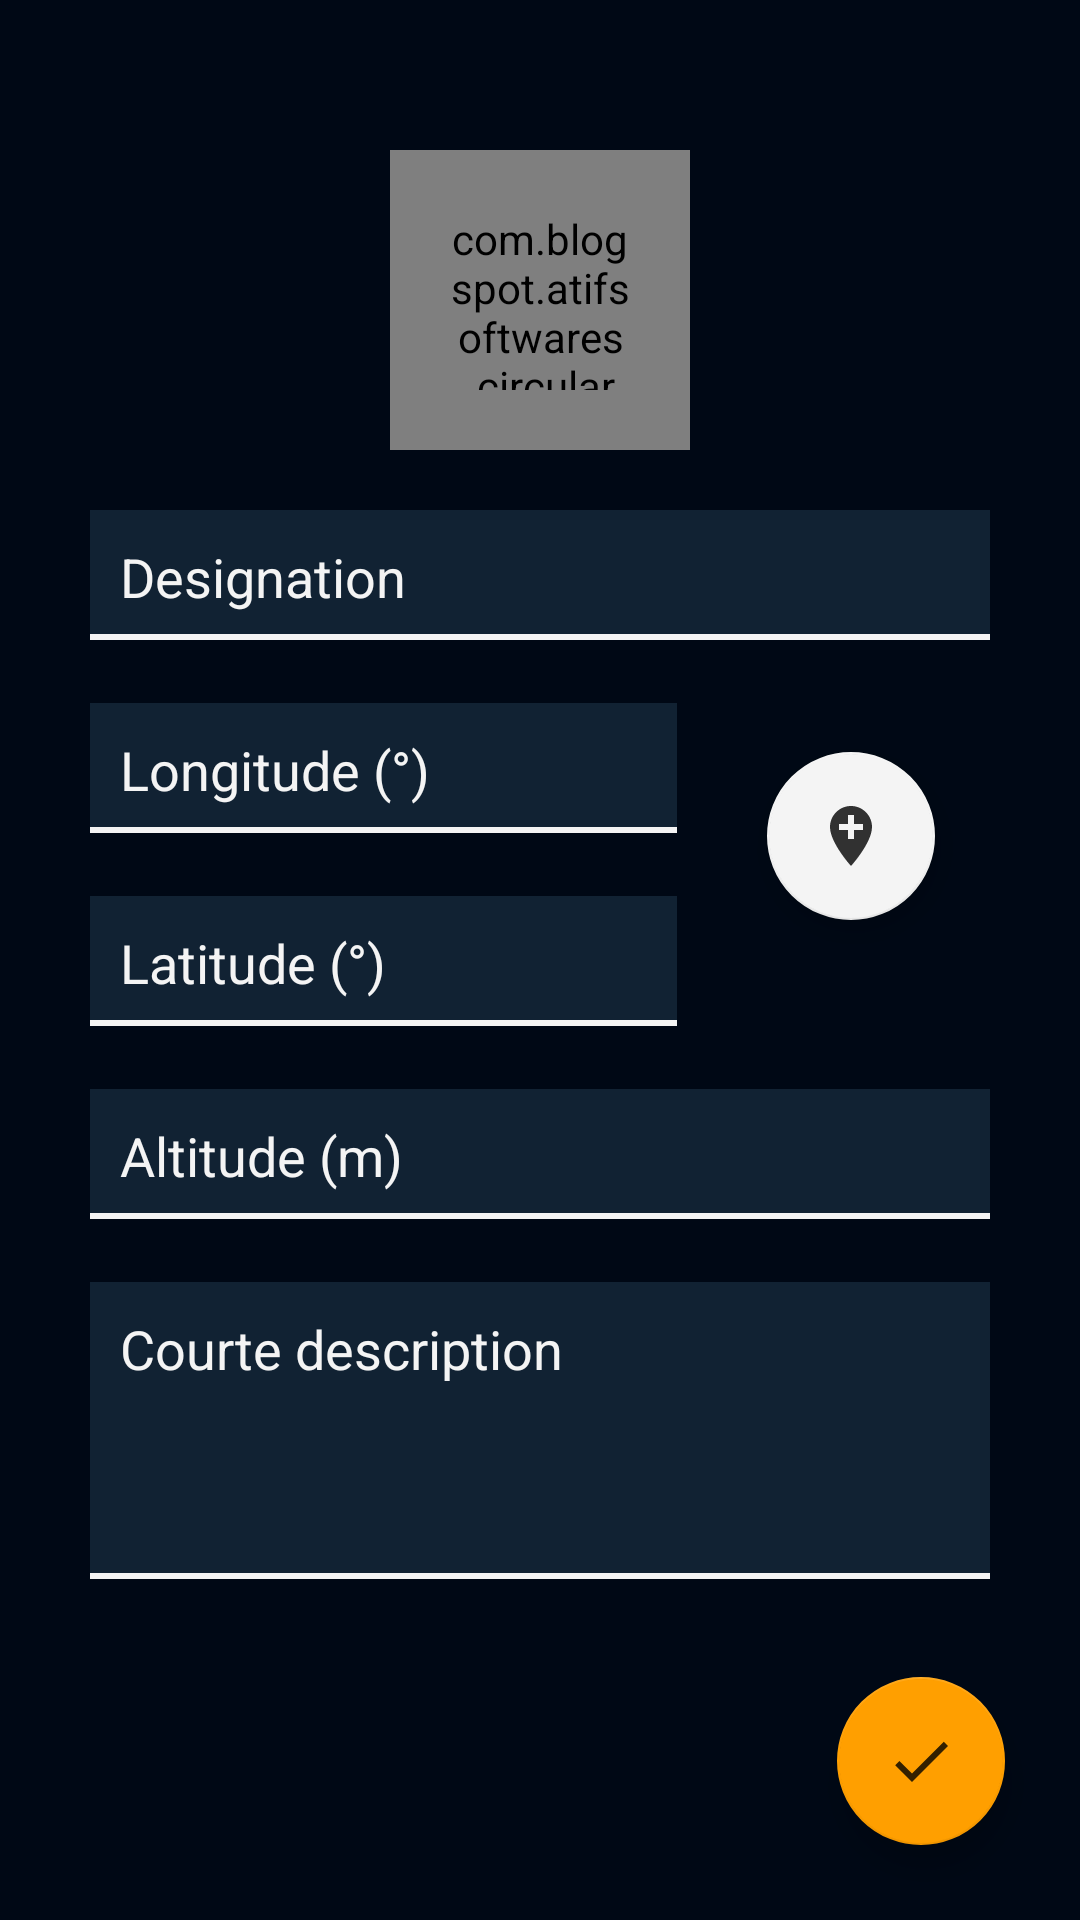

Named icons in this screenshot (1080 x 1920) and their centers, [x,y]:
add location verydark: [851,836]
done verydark: [921,1761]
